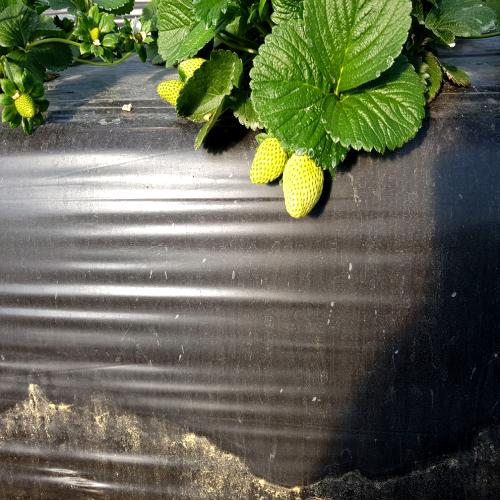unripe: (282, 146, 326, 227), (240, 126, 286, 196)
